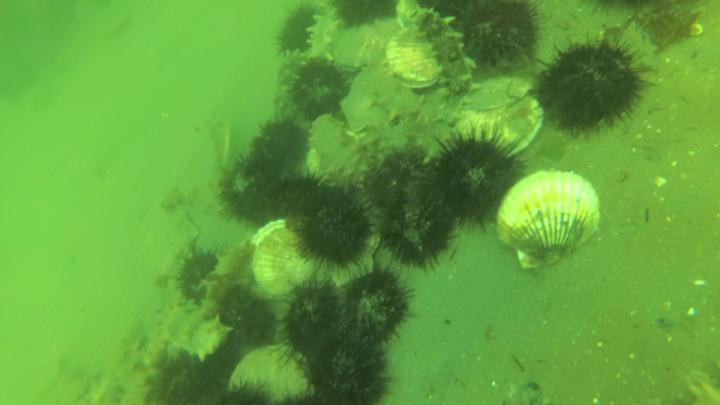echinus: (538, 38, 643, 139), (432, 133, 526, 223), (304, 330, 393, 405), (455, 1, 541, 72), (295, 192, 373, 269), (381, 192, 455, 270), (343, 270, 415, 349), (285, 278, 347, 359), (221, 155, 287, 229), (153, 352, 231, 405), (292, 60, 351, 119), (249, 119, 308, 170), (219, 285, 270, 343), (276, 1, 319, 57), (178, 247, 219, 302), (336, 1, 402, 30)
holothurian: (399, 5, 471, 96), (157, 286, 235, 365), (306, 111, 374, 188), (363, 84, 463, 129), (199, 240, 254, 321), (306, 5, 345, 61), (271, 55, 301, 124)
scallop: (494, 168, 604, 275), (453, 94, 545, 161), (228, 343, 316, 405), (340, 58, 408, 135), (252, 219, 318, 295), (385, 21, 445, 86)
